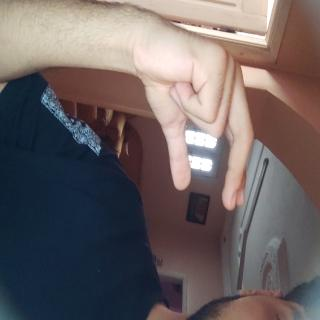DHELL: (2, 81, 160, 259)
